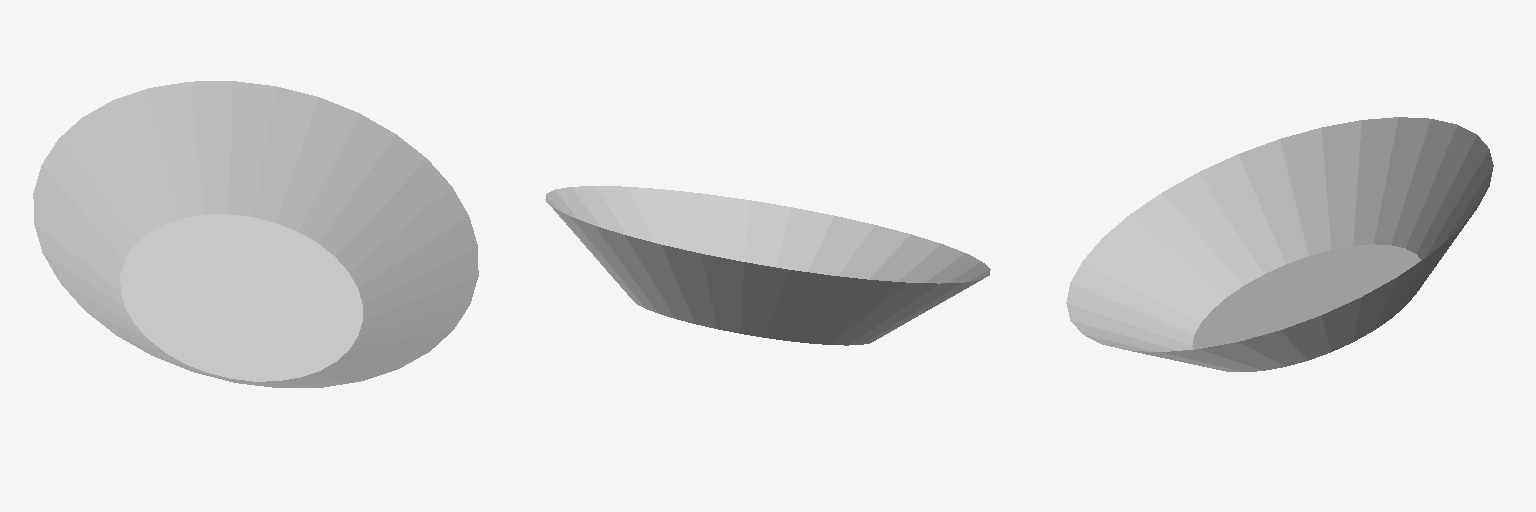
The picture shows the model from 3 angles: view 1: azimuth 30°, elevation 25°; view 2: azimuth 150°, elevation 25°; view 3: azimuth 270°, elevation 25°; orthographic projection.
Visible parts, largest first — view 1: uitest_uitestmesh; view 2: uitest_uitestmesh; view 3: uitest_uitestmesh.
Boxes of the visible parts, x1,y1,x2,y2 form: uitest_uitestmesh: [33, 81, 478, 387]; uitest_uitestmesh: [545, 186, 990, 345]; uitest_uitestmesh: [1066, 117, 1493, 371].
Size of the model in its own units: 0.2542 by 0.111 by 0.2397.